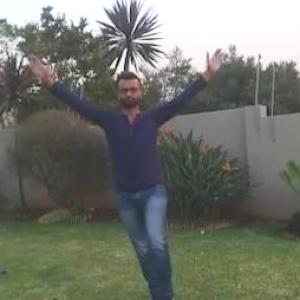takeoff: (26, 49, 223, 298)
